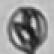correct: (6, 6, 51, 54)
